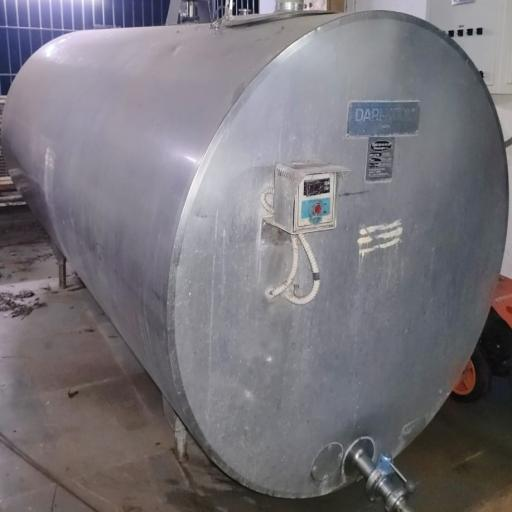silo: (0, 9, 510, 501)
